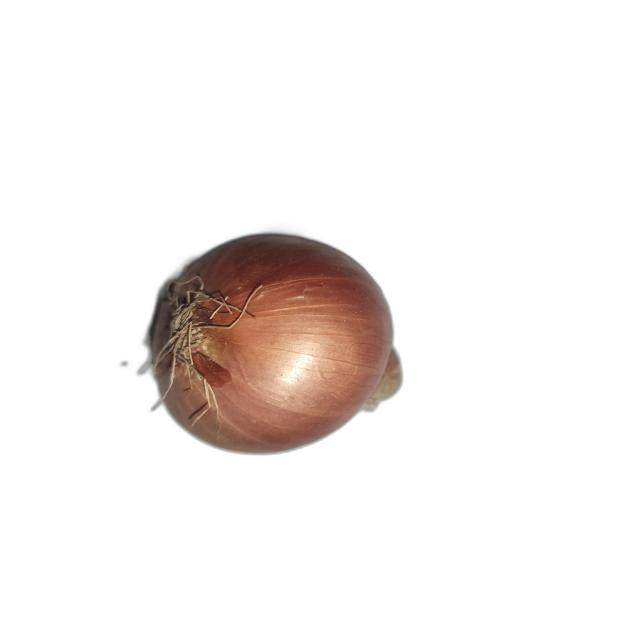onion: (139, 233, 404, 457)
